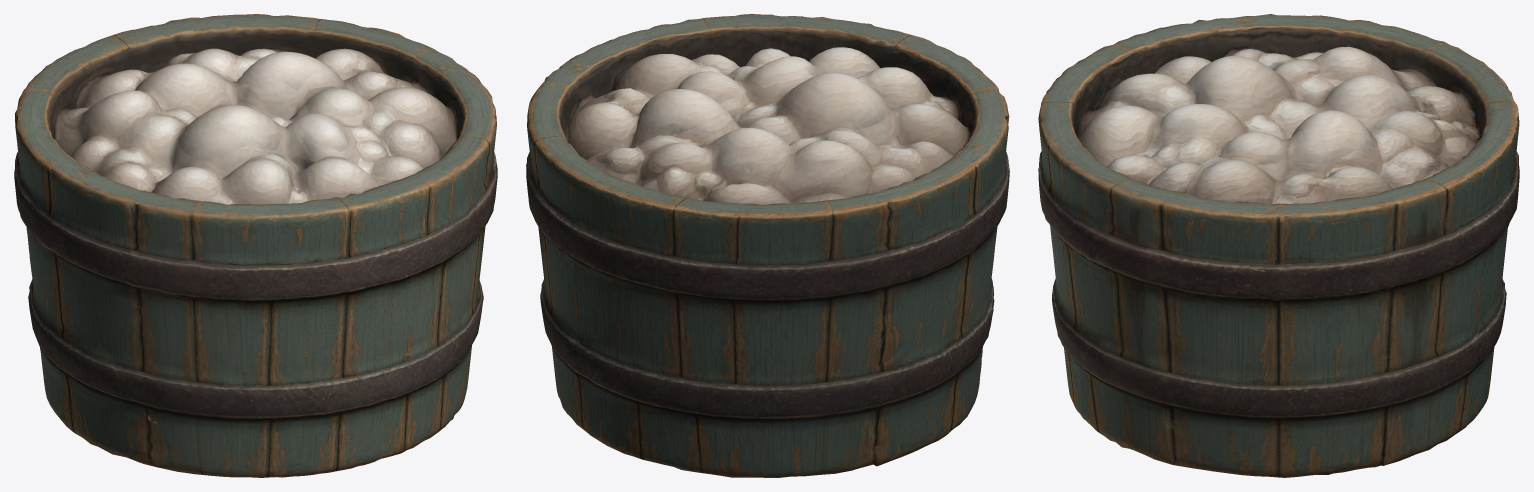
The model's file is Furn_WashTub.fbx.
The picture shows the model from 3 angles, left to right: view 1: azimuth 30°, elevation 25°; view 2: azimuth 150°, elevation 25°; view 3: azimuth 270°, elevation 25°; orthographic projection.
Parts seen in each view (by area): view 1: texture_mapping; view 2: texture_mapping; view 3: texture_mapping.
Part boxes in pixels (bbox=[...]): texture_mapping: bbox=[14, 14, 497, 477]; texture_mapping: bbox=[526, 14, 1009, 477]; texture_mapping: bbox=[1038, 14, 1519, 477].
Size of the model in its own units: 0.9962 by 0.9951 by 0.7038.
1 material, 1 textured.
